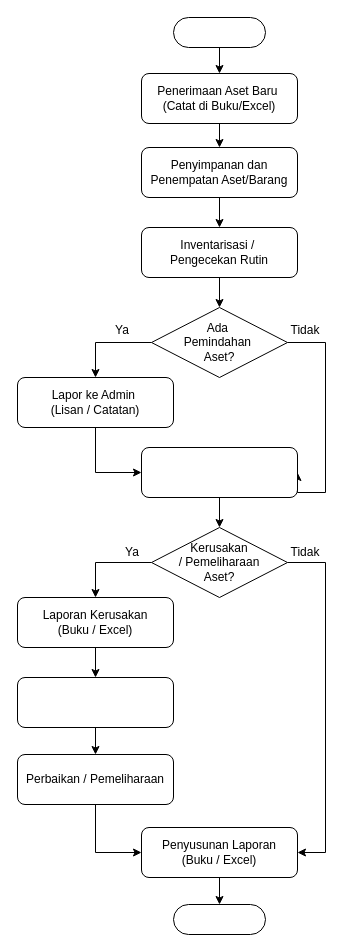
Some shapes in this 353 by 952 pixel diagram are drawn without their labels. Each missing label, with the centre of its shape:
"End" goes at [219,919].
"Perbarui Data Aset (Buku / Excel)" goes at [219,472].
"Persetujuan Pimpinan" goes at [95,702].
"Start" goes at [219,32].
